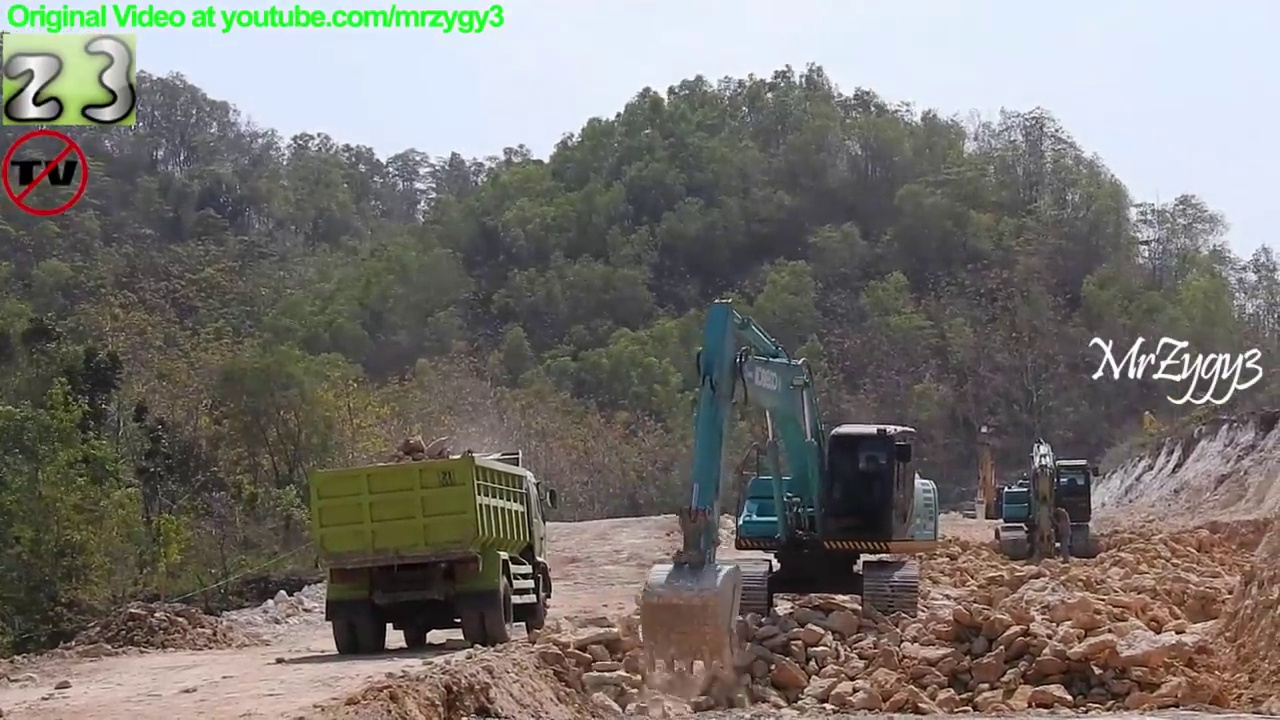excavator: (634, 295, 943, 679), (955, 421, 1023, 530)
excavator breaker: (992, 436, 1099, 565)
truck: (305, 448, 560, 659)
worker: (1047, 502, 1081, 568)
